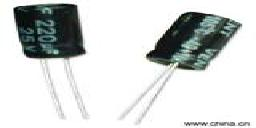Electrolytic-Capacitor: (119, 10, 244, 128), (11, 3, 94, 121)
